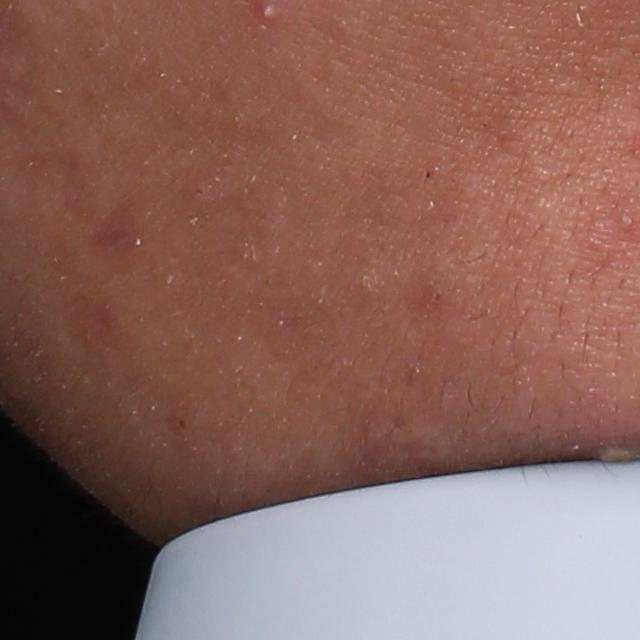comedo: (423, 288, 448, 309)
pustule: (258, 3, 278, 23)
